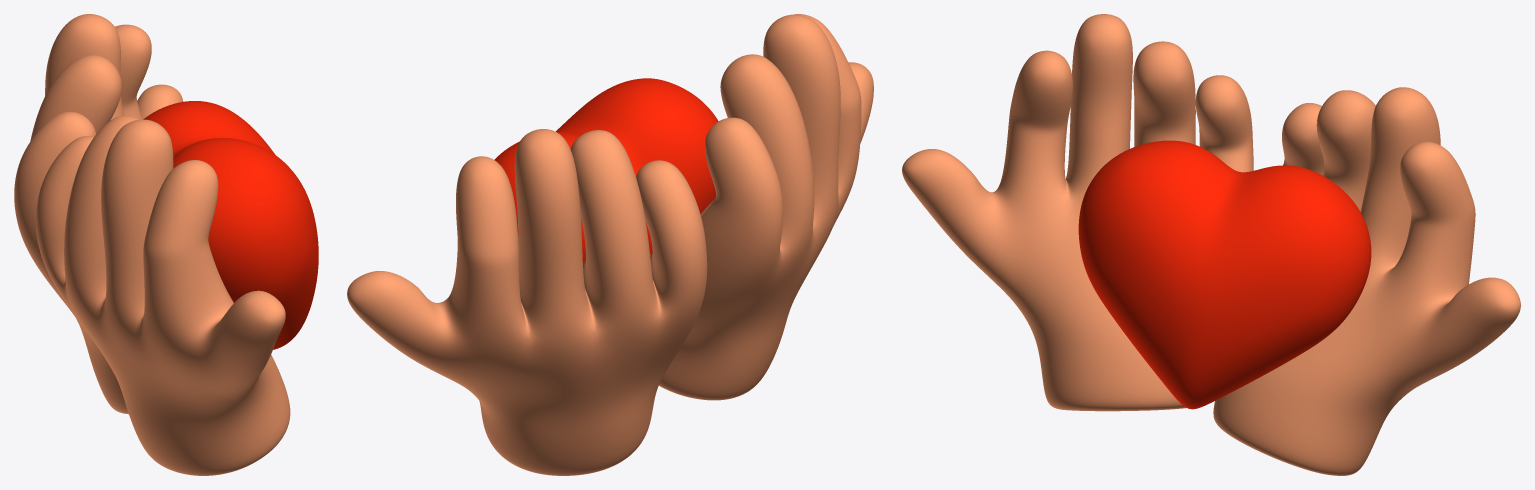
File: heart.obj
The picture shows the model from 3 angles, left to right: view 1: azimuth 30°, elevation 25°; view 2: azimuth 150°, elevation 25°; view 3: azimuth 270°, elevation 25°; orthographic projection. The views are drawn at different scales.
Visible parts, largest first — view 1: Cube.001; view 2: Cube.001; view 3: Cube.001.
Part boxes in pixels (x1=…): Cube.001: x1=14, y1=14, x2=318, y2=475; Cube.001: x1=347, y1=14, x2=873, y2=475; Cube.001: x1=902, y1=14, x2=1520, y2=475.
Size of the model in its own units: 0.515 by 0.6754 by 0.9776.
